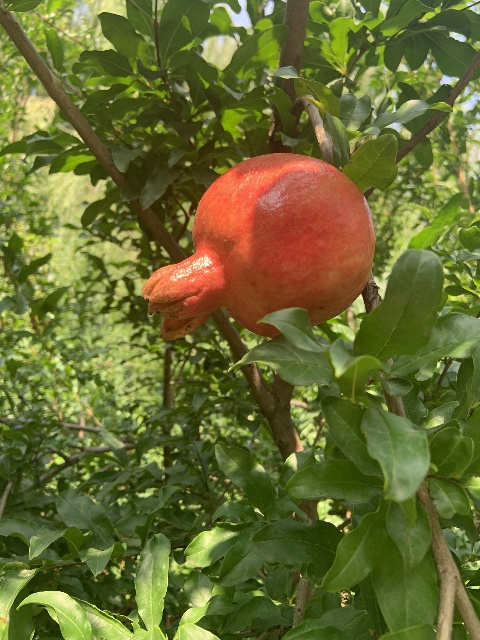ripe: (141, 153, 374, 341)
